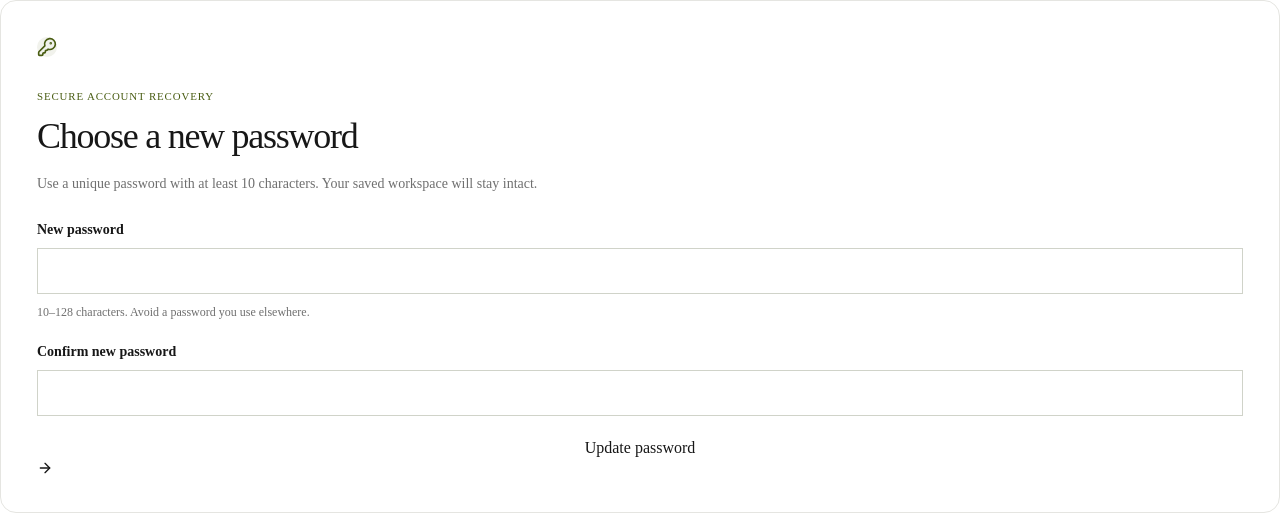
Test case: human email-link password reset › retains the finite uncertain outcome across an owner remount without retaining proof
The image size is (1280, 530).
Later steps or results of the test are not shown.
Type "human-new-password-123" into the password field labelled "New password" at (640, 271), box x1=37 y1=248 x2=1243 y2=294
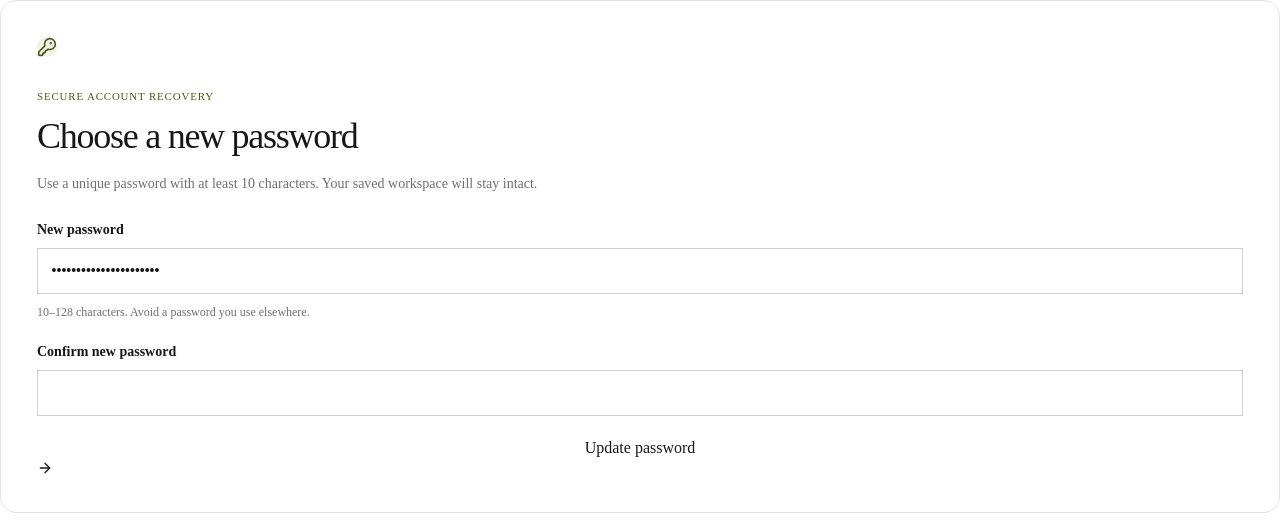
Type "human-new-password-123" into the password field labelled "Confirm new password" at (640, 393), box x1=37 y1=370 x2=1243 y2=416
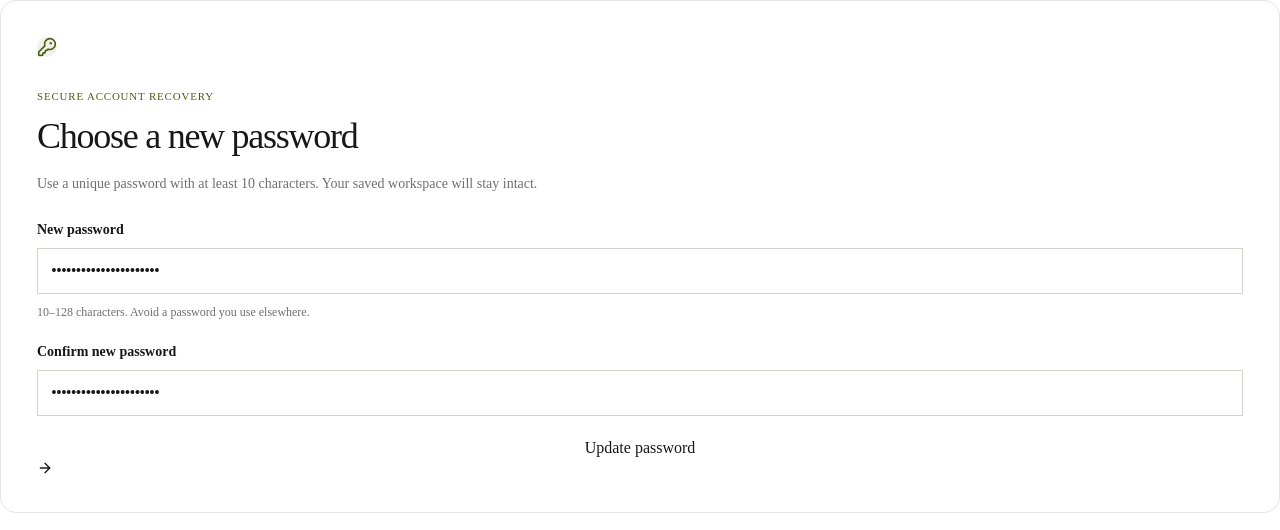
Click the button "Update password" at (640, 456), box x1=37 y1=436 x2=1243 y2=476
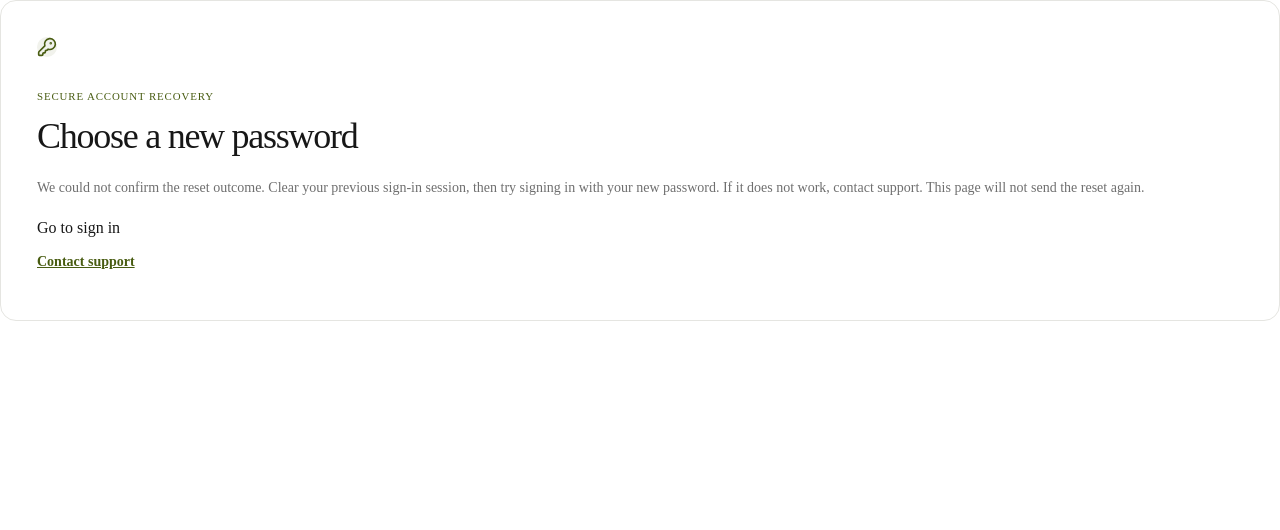
Expected: the link "Contact support" is shown, x1=37 y1=254 x2=135 y2=269
